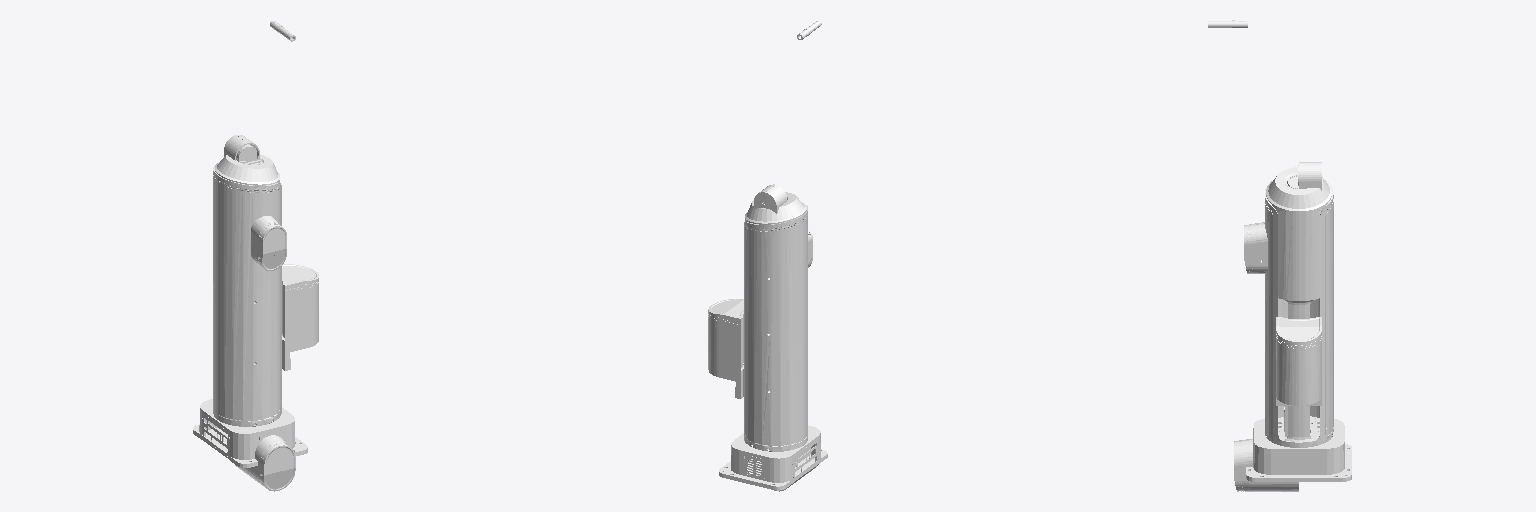
The robot description file, URDF, robot "cr16_robot":
<?xml version="1.0" encoding="utf-8"?>
<!-- This URDF was automatically created by SolidWorks to URDF Exporter! Originally created by [author] ([email redacted]) 
     Commit Version: 1.6.0-1-g15f4949  Build Version: 1.6.7594.29634
     For more information, please see http://wiki.ros.org/sw_urdf_exporter -->
<robot
  name="cr16_robot">
  <link name="dummy_link"/>
  <link
    name="base_link">
    <inertial>
      <origin
        xyz="-0.0017434 -4.7187E-06 0.032774"
        rpy="0 0 0" />
      <mass
        value="1.8265" />
      <inertia
        ixx="0.0041731"
        ixy="5.9313E-07"
        ixz="2.5199E-05"
        iyy="0.0043128"
        iyz="-5.4485E-07"
        izz="0.0067702" />
    </inertial>
    <visual>
      <origin
        xyz="0 0 0"
        rpy="0 0 0" />
      <geometry>
        <mesh
          filename="package://cr_description/meshes/cr16/base_link.STL"  />
      </geometry>
      <material
        name="">
        <color
          rgba="1 1 1 1" />
      </material>
    </visual>
    <collision>
      <origin
        xyz="0 0 0"
        rpy="0 0 0" />
      <geometry>
        <mesh
          filename="package://cr_description/meshes/cr16/base_link.STL"/>
      </geometry>
    </collision>
  </link>
     <joint name="dummy_joint" type="fixed">
      <parent link="dummy_link" />
      <child  link="base_link" />
    </joint>
  <link
    name="Link1">
    <inertial>
      <origin
        xyz="-1.6641E-06 -0.010819 0.0028389"
        rpy="0 0 0" />
      <mass
        value="4.1649" />
      <inertia
        ixx="0.020714"
        ixy="-1.9337E-07"
        ixz="1.6016E-07"
        iyy="0.018824"
        iyz="-9.6732E-05"
        izz="0.014575" />
    </inertial>
    <visual>
      <origin
        xyz="0 0 0"
        rpy="0 0 0" />
      <geometry>
        <mesh
          filename="package://cr_description/meshes/cr16/Link1.STL" />
      </geometry>
      <material
        name="">
        <color
          rgba="1 1 1 1" />
      </material>
    </visual>
    <collision>
      <origin
        xyz="0 0 0"
        rpy="0 0 0" />
      <geometry>
        <mesh
          filename="package://cr_description/meshes/cr16/Link1.STL" />
      </geometry>
    </collision>
  </link>
  <joint
    name="joint1"
    type="revolute">
    <origin
      xyz="0 0 0.1765"
      rpy="0 0 0" />
    <parent
      link="base_link" />
    <child
      link="Link1" />
    <axis
      xyz="0 0 1" />
    <limit
      lower="-3.14"
      upper="3.14"
      effort="0"
      velocity="0" />
  </joint>
  <link
    name="Link2">
    <inertial>
      <origin
        xyz="-0.20512 -3.1886E-08 0.19538"
        rpy="0 0 0" />
      <mass
        value="10.222" />
      <inertia
        ixx="0.031498"
        ixy="-8.7366E-08"
        ixz="-0.00021952"
        iyy="0.06945"
        iyz="-1.4472E-07"
        izz="0.062387" />
    </inertial>
    <visual>
      <origin
        xyz="0 0 0"
        rpy="0 0 0" />
      <geometry>
        <mesh
          filename="package://cr_description/meshes/cr16/Link2.STL"  />
      </geometry>
      <material
        name="">
        <color
          rgba="1 1 1 1" />
      </material>
    </visual>
    <collision>
      <origin
        xyz="0 0 0"
        rpy="0 0 0" />
      <geometry>
        <mesh
          filename="package://cr_description/meshes/cr16/Link2.STL" />
      </geometry>
    </collision>
  </link>
  <joint
    name="joint2"
    type="revolute">
    <origin
      xyz="0 0 0"
      rpy="1.5708 1.5708 0" />
    <parent
      link="Link1" />
    <child
      link="Link2" />
    <axis
      xyz="0 0 1" />
    <limit
      lower="-3.14"
      upper="3.14"
      effort="0"
      velocity="0" />
  </joint>
  <link
    name="Link3">
    <inertial>
      <origin
        xyz="-0.170200593728399 2.11088122753169E-07 0.0611734146139162"
        rpy="0 0 0" />
      <mass
        value="3.75359417381617" />
      <inertia
        ixx="0.00603810286245228"
        ixy="-6.36208384653473E-08"
        ixz="-5.72052164068317E-05"
        iyy="0.0119444184036258"
        iyz="6.47950646898604E-08"
        izz="0.0107481567947292" />
    </inertial>
    <visual>
      <origin
        xyz="0 0 0"
        rpy="0 0 0" />
      <geometry>
        <mesh
          filename="package://cr_description/meshes/cr16/Link3.STL" />
      </geometry>
      <material
        name="">
        <color
          rgba="1 1 1 1" />
      </material>
    </visual>
    <collision>
      <origin
        xyz="0 0 0"
        rpy="0 0 0" />
      <geometry>
        <mesh
          filename="package://cr_description/meshes/cr16/Link3.STL" />
      </geometry>
    </collision>
  </link>
  <joint
    name="joint3"
    type="revolute">
    <origin
      xyz="-0.512 0 0"
      rpy="0 0 0" />
    <parent
      link="Link2" />
    <child
      link="Link3" />
    <axis
      xyz="0 0 1" />
    <limit
      lower="-2.86"
      upper="2.86"
      effort="0"
      velocity="0" />
  </joint>
  <link
    name="Link4">
    <inertial>
      <origin
        xyz="-2.51136414011728E-07 0.00798725336224493 -0.00589074250591318"
        rpy="0 0 0" />
      <mass
        value="1.16884301529359" />
      <inertia
        ixx="0.00292614958206067"
        ixy="8.13393336360205E-09"
        ixz="-8.19039910228418E-09"
        iyy="0.00150053008994198"
        iyz="-5.44925430410846E-05"
        izz="0.00273274970331529" />
    </inertial>
    <visual>
      <origin
        xyz="0 0 0"
        rpy="0 0 0" />
      <geometry>
        <mesh
          filename="package://cr_description/meshes/cr16/Link4.STL" />
      </geometry>
      <material
        name="">
        <color
          rgba="1 1 1 1" />
      </material>
    </visual>
    <collision>
      <origin
        xyz="0 0 0"
        rpy="0 0 0" />
      <geometry>
        <mesh
          filename="package://cr_description/meshes/cr16/Link4.STL" />
      </geometry>
    </collision>
  </link>
  <joint
    name="joint4"
    type="revolute">
    <origin
      xyz="-0.363 0 0.191"
      rpy="0 0 -1.5708" />
    <parent
      link="Link3" />
    <child
      link="Link4" />
    <axis
      xyz="0 0 1" />
    <limit
      lower="-3.14"
      upper="3.14"
      effort="0"
      velocity="0" />
  </joint>
  <link
    name="Link5">
    <inertial>
      <origin
        xyz="5.95030917189652E-07 -0.0145467824834555 -0.00454892377987748"
        rpy="0 0 0" />
      <mass
        value="1.22302770181629" />
      <inertia
        ixx="0.00337903895296555"
        ixy="3.44280377037815E-08"
        ixz="-6.93979063565381E-09"
        iyy="0.001492552393115"
        iyz="8.41874314256677E-05"
        izz="0.00323298846154308" />
    </inertial>
    <visual>
      <origin
        xyz="0 0 0"
        rpy="0 0 0" />
      <geometry>
        <mesh
          filename="package://cr_description/meshes/cr16/Link5.STL" />
      </geometry>
      <material
        name="">
        <color
          rgba="1 1 1 1" />
      </material>
    </visual>
    <collision>
      <origin
        xyz="0 0 0"
        rpy="0 0 0" />
      <geometry>
        <mesh
          filename="package://cr_description/meshes/cr16/Link5.STL" />
      </geometry>
    </collision>
  </link>
  <joint
    name="joint5"
    type="revolute">
    <origin
      xyz="0 -0.125 0"
      rpy="1.5708 0 0" />
    <parent
      link="Link4" />
    <child
      link="Link5" />
    <axis
      xyz="0 0 1" />
    <limit
      lower="-3.14"
      upper="3.14"
      effort="0"
      velocity="0" />
  </joint>
  <link
    name="Link6">
    <inertial>
      <origin
        xyz="1.26507355792134E-07 2.29654719696715E-05 -0.0205297779952012"
        rpy="0 0 0" />
      <mass
        value="0.205439539605232" />
      <inertia
        ixx="0.000110115415603791"
        ixy="-2.45819491561588E-13"
        ixz="-2.41984454633386E-13"
        iyy="0.000110662465683831"
        iyz="3.68892612776179E-08"
        izz="0.000205184285911954" />
    </inertial>
    <visual>
      <origin
        xyz="0 0 0"
        rpy="0 0 0" />
      <geometry>
        <mesh
          filename="package://cr_description/meshes/cr16/Link6.STL"/>
      </geometry>
      <material
        name="">
        <color
          rgba="1 1 1 1" />
      </material>
    </visual>
    <collision>
      <origin
        xyz="0 0 0"
        rpy="0 0 0" />
      <geometry>
        <mesh
          filename="package://cr_description/meshes/cr16/Link6.STL" />
      </geometry>
    </collision>
  </link>
  <joint
    name="joint6"
    type="revolute">
    <origin
      xyz="0 0.1084 0"
      rpy="-1.5708 0 0" />
    <parent
      link="Link5" />
    <child
      link="Link6" />
    <axis
      xyz="0 0 1" />
    <limit
      lower="-6.28"
      upper="6.28"
      effort="0"
      velocity="0" />
  </joint>
</robot>

--- Render facts (derived) ---
3 views of the same robot in one strip: view 1: azimuth 30°, elevation 25°; view 2: azimuth 150°, elevation 25°; view 3: azimuth 270°, elevation 25° (orthographic).
Robot: cr16_robot — 8 links, 7 joints (6 revolute, 1 fixed); root link dummy_link; default pose: every joint at zero.
Visible links, largest first — view 1: base_link, Link1, Link3, Link2; view 2: base_link, Link1, Link3; view 3: base_link, Link1, Link3, Link2.
Boxes of the visible links, left/top/right/bottom form: base_link: left=193, top=154, right=307, bottom=467; Link1: left=282, top=264, right=318, bottom=370; Link3: left=224, top=135, right=286, bottom=270; Link2: left=235, top=435, right=295, bottom=491; base_link: left=719, top=192, right=827, bottom=490; Link1: left=708, top=299, right=743, bottom=398; Link3: left=754, top=184, right=812, bottom=267; base_link: left=1246, top=167, right=1351, bottom=481; Link1: left=1276, top=317, right=1321, bottom=405; Link3: left=1244, top=162, right=1321, bottom=273; Link2: left=1234, top=406, right=1298, bottom=491.
Bounding box of the posed robot: 0.2535 × 0.3134 × 1.12 m (x, y, z).
5 mesh visuals loaded from 7 distinct referenced files (5 binary STL); not drawn: 2 (reference not matched to a file when rendering).
